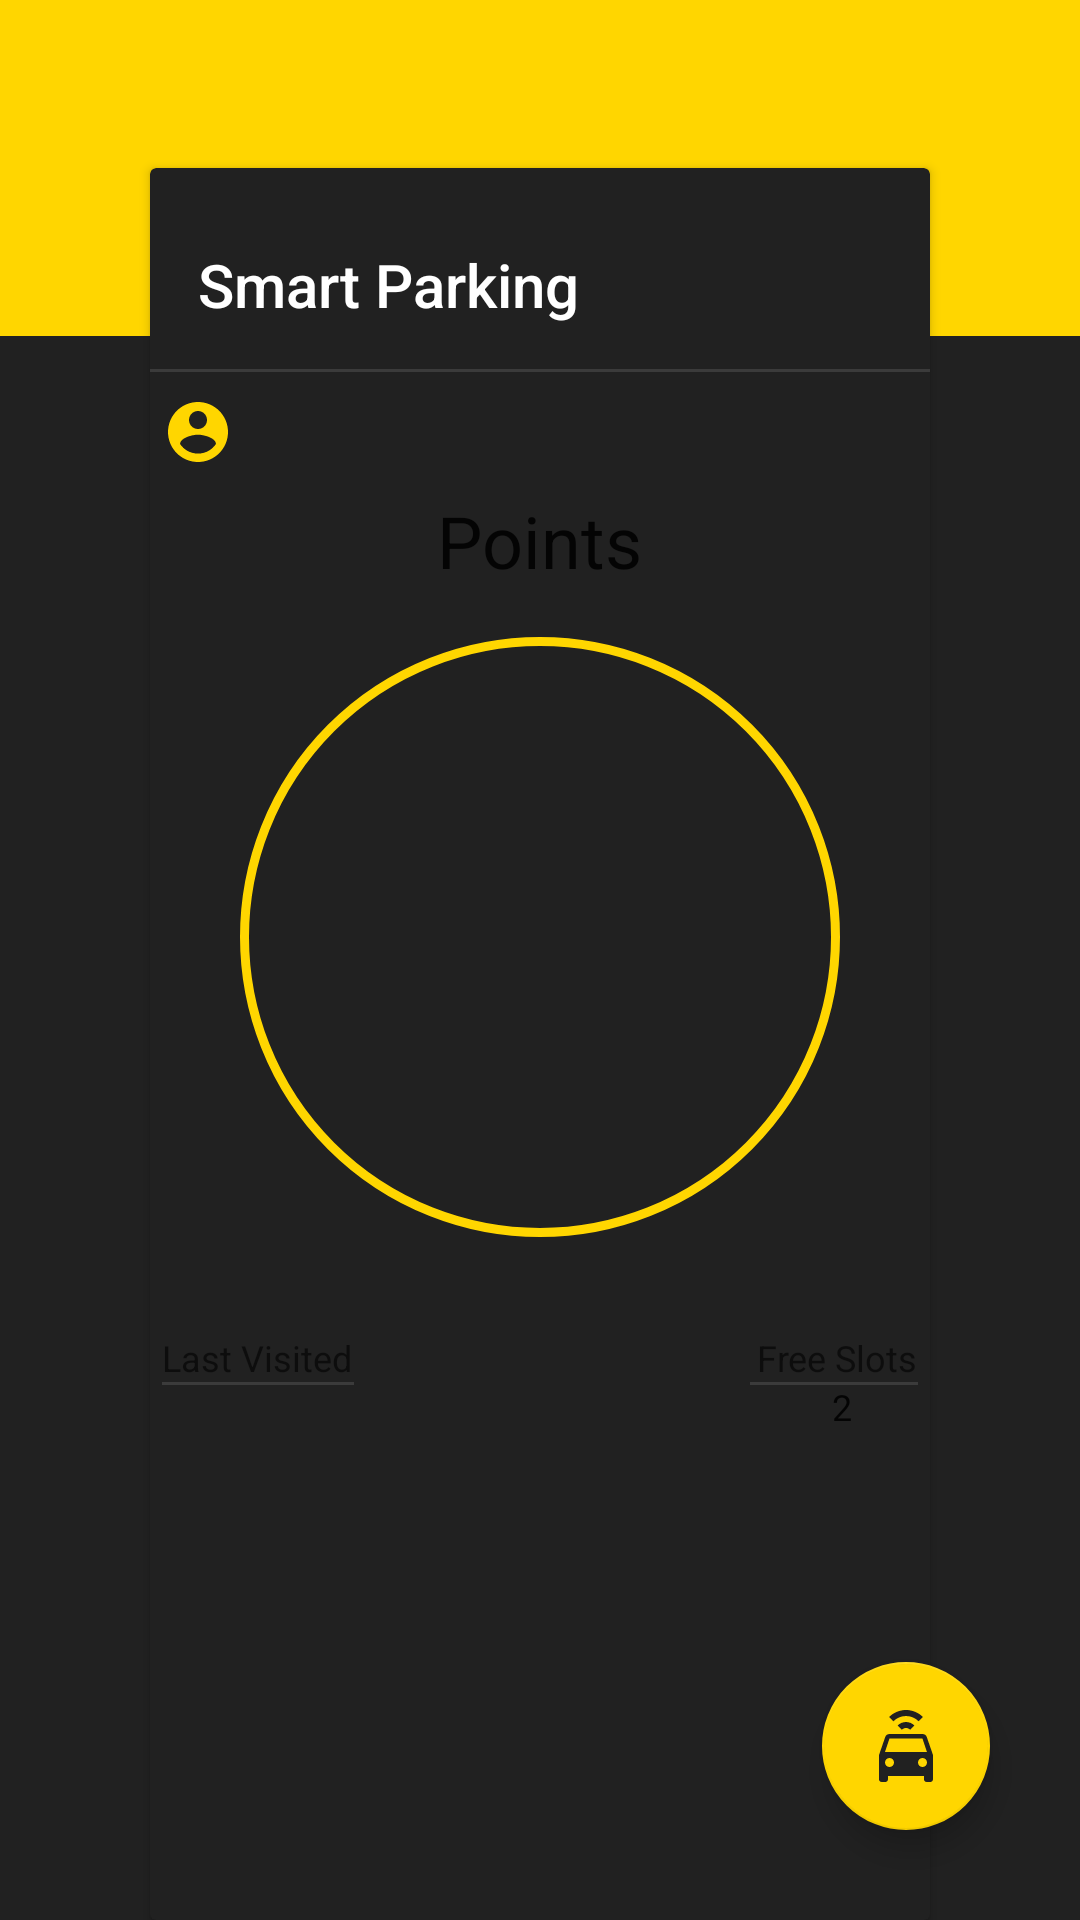

Where to tap for icons on this 1080w x 1920h app screen, as (x,y):
car connected: (906,1746)
